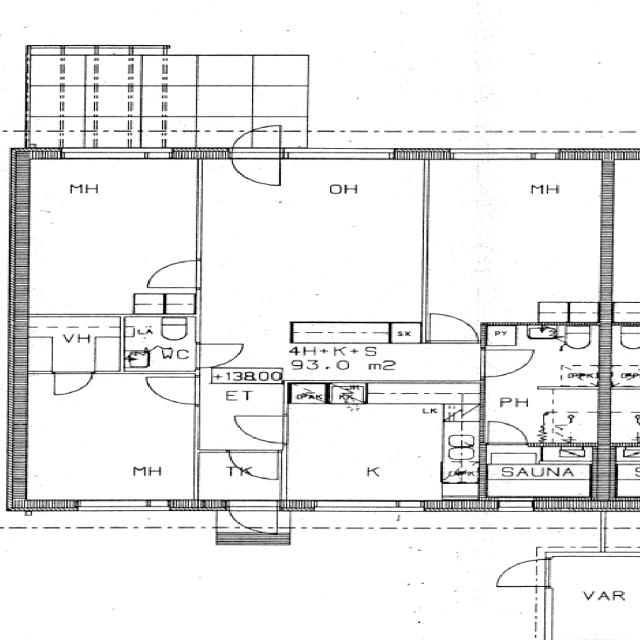door: (230, 119, 281, 159), (230, 148, 281, 187), (229, 500, 278, 538), (480, 350, 536, 377), (496, 559, 552, 586), (228, 450, 278, 480), (146, 260, 200, 287), (232, 416, 286, 443), (145, 378, 200, 404), (430, 314, 478, 343), (194, 344, 244, 368), (488, 421, 529, 447), (54, 371, 92, 395)
